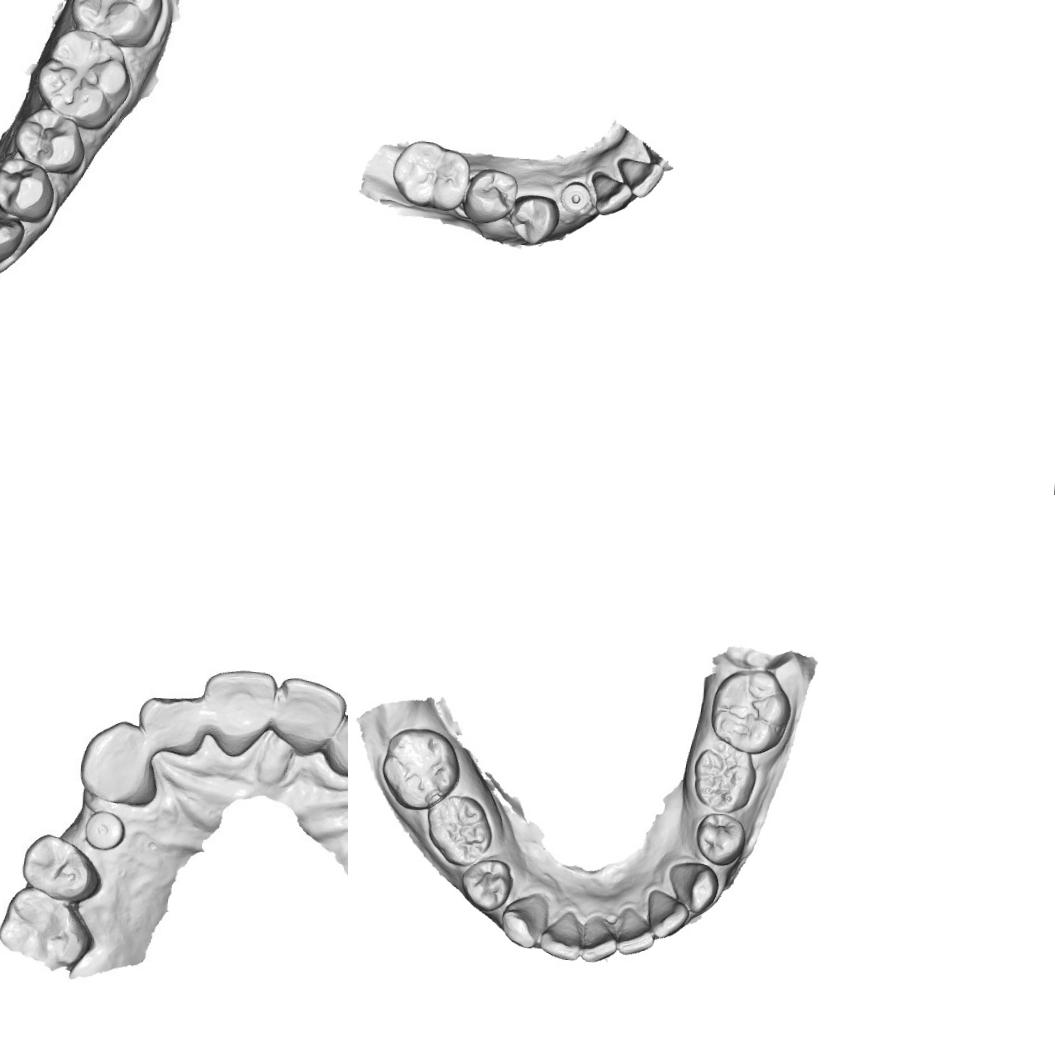canine: (74, 715, 161, 809), (664, 859, 720, 914), (498, 890, 550, 949), (0, 204, 25, 265)
implant: (82, 805, 127, 850), (558, 179, 592, 217)
incisor: (201, 666, 274, 756), (270, 676, 346, 758), (136, 687, 210, 762), (536, 906, 584, 964), (644, 887, 690, 939), (588, 169, 634, 216), (574, 918, 620, 964), (616, 156, 664, 199), (613, 914, 656, 956), (326, 708, 348, 781)
molar: (0, 883, 97, 969), (36, 28, 128, 118), (707, 666, 795, 756), (376, 724, 462, 813), (390, 135, 470, 213), (422, 791, 496, 868), (690, 740, 760, 815), (70, 0, 156, 43)
premolar: (17, 830, 104, 906), (15, 106, 84, 170), (0, 156, 56, 220), (458, 854, 514, 916), (464, 166, 520, 224), (692, 810, 748, 868), (508, 190, 560, 246)
